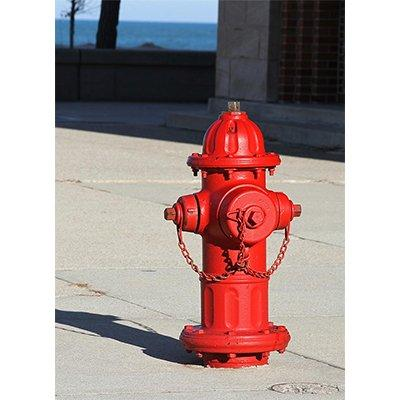FireHydrant: (156, 96, 301, 373)
